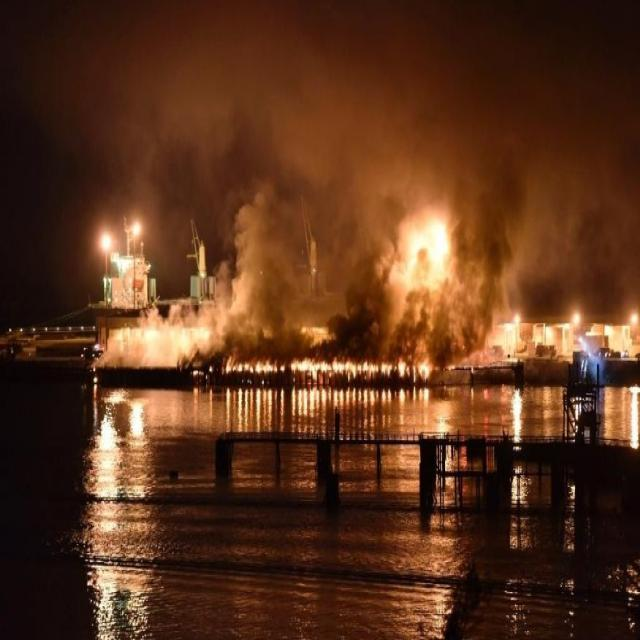Fire: (398, 213, 444, 286)
Smoke: (217, 0, 380, 356), (96, 310, 212, 369), (387, 294, 465, 354)
